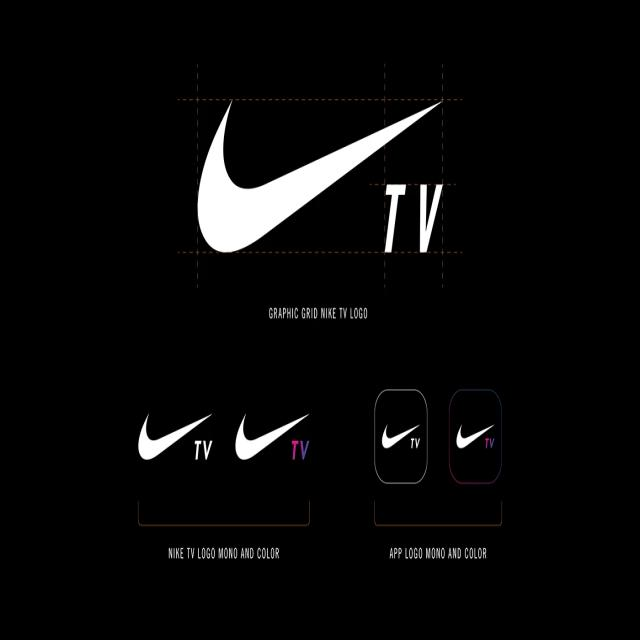nike: (191, 81, 449, 298)
